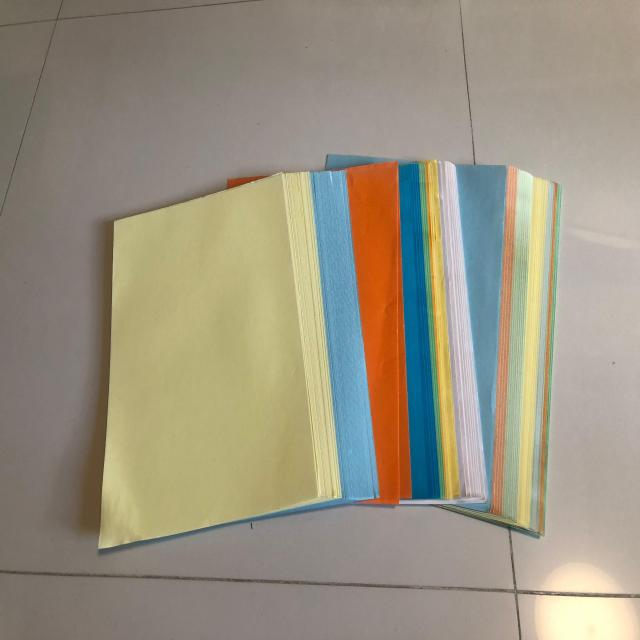paper: (91, 155, 570, 555)
